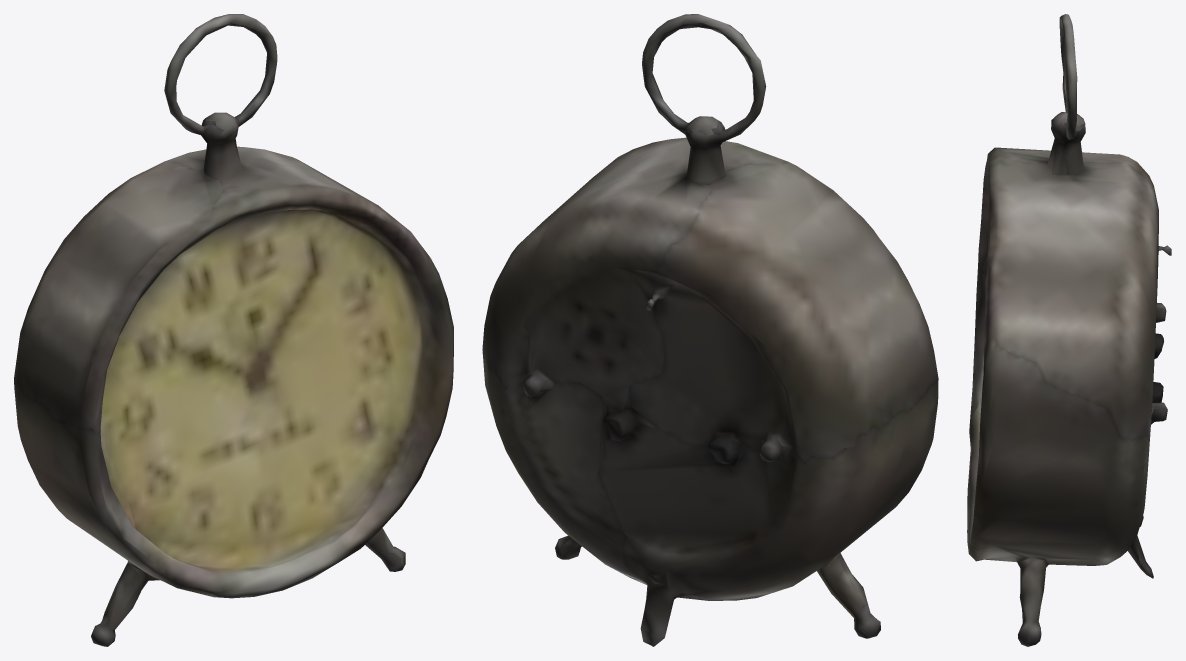
The model's file is Crosley_Alarm_Clock_Vintage_Metal-medium.glb.
3 views of the same model, side by side, from view 1: azimuth 30°, elevation 25°; view 2: azimuth 150°, elevation 25°; view 3: azimuth 270°, elevation 25° (orthographic). The views are drawn at different scales.
Parts seen in each view (by area): view 1: Crosley_Alarm_Clock_Vintage_Metal; view 2: Crosley_Alarm_Clock_Vintage_Metal; view 3: Crosley_Alarm_Clock_Vintage_Metal.
Part boxes in pixels (left/top/right/bottom): Crosley_Alarm_Clock_Vintage_Metal: left=14, top=14, right=453, bottom=646; Crosley_Alarm_Clock_Vintage_Metal: left=482, top=14, right=938, bottom=646; Crosley_Alarm_Clock_Vintage_Metal: left=967, top=14, right=1171, bottom=646.
Size of the model in its own units: 0.1092 by 0.1621 by 0.0539.
1 material, 1 textured.
